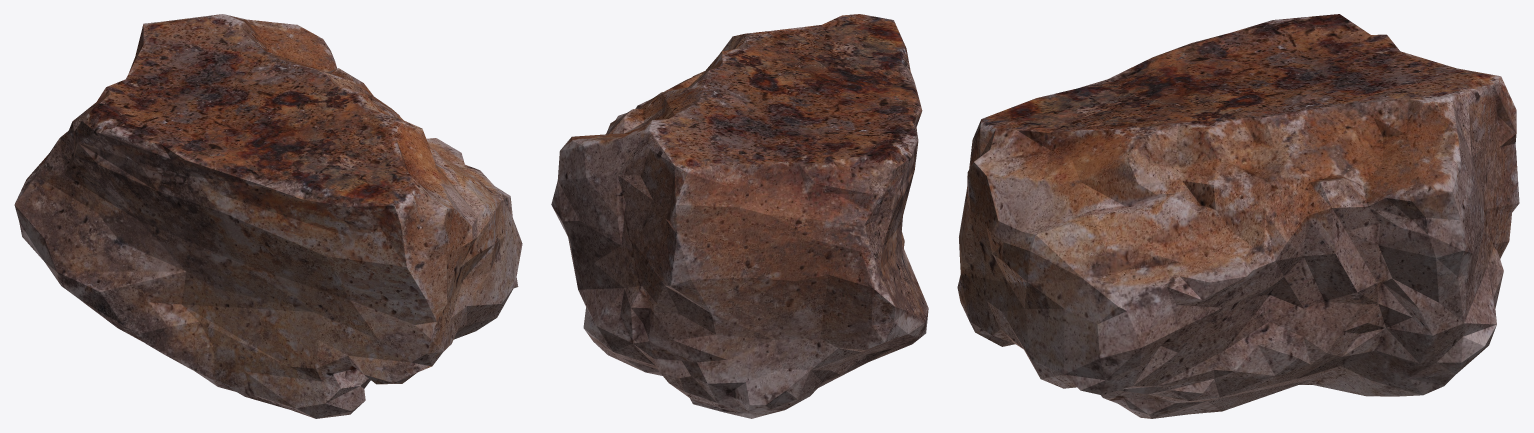
Rendered from 7NVD901GRSYZM8C705GUZDDPI.gltf.
The picture shows the model from 3 angles, left to right: view 1: azimuth 30°, elevation 25°; view 2: azimuth 150°, elevation 25°; view 3: azimuth 270°, elevation 25°; orthographic projection. The views are drawn at different scales.
Size of the model in its own units: 2.03 by 1.41 by 2.28.
1 material, 1 textured.
